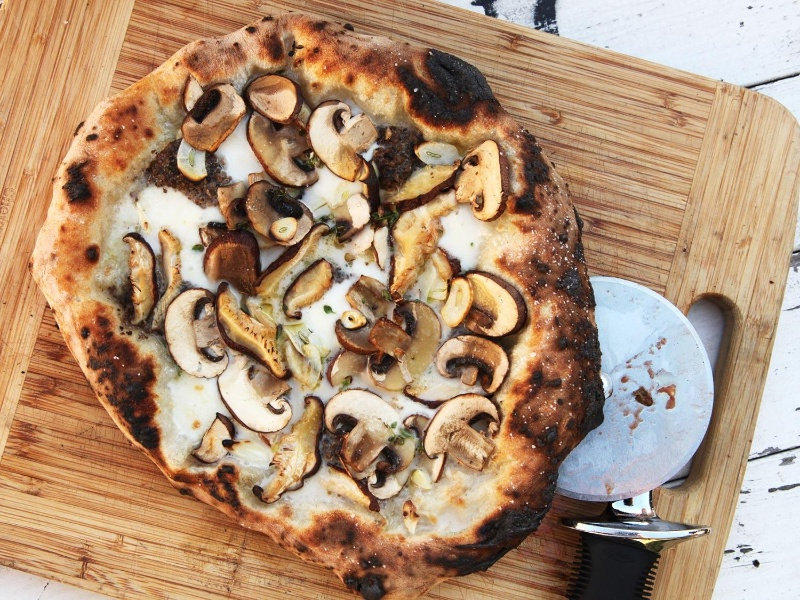champignon: (317, 389, 420, 500), (365, 297, 442, 399), (159, 288, 234, 378), (216, 354, 298, 435), (305, 100, 380, 185), (422, 393, 500, 471), (433, 331, 519, 399), (449, 142, 516, 223)
